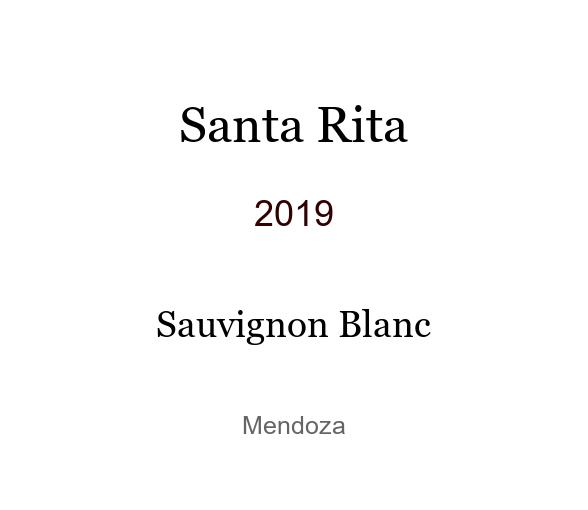brand: (179, 96, 408, 133)
region: (242, 411, 346, 429)
variety: (156, 303, 431, 339)
vintage: (254, 193, 334, 219)
